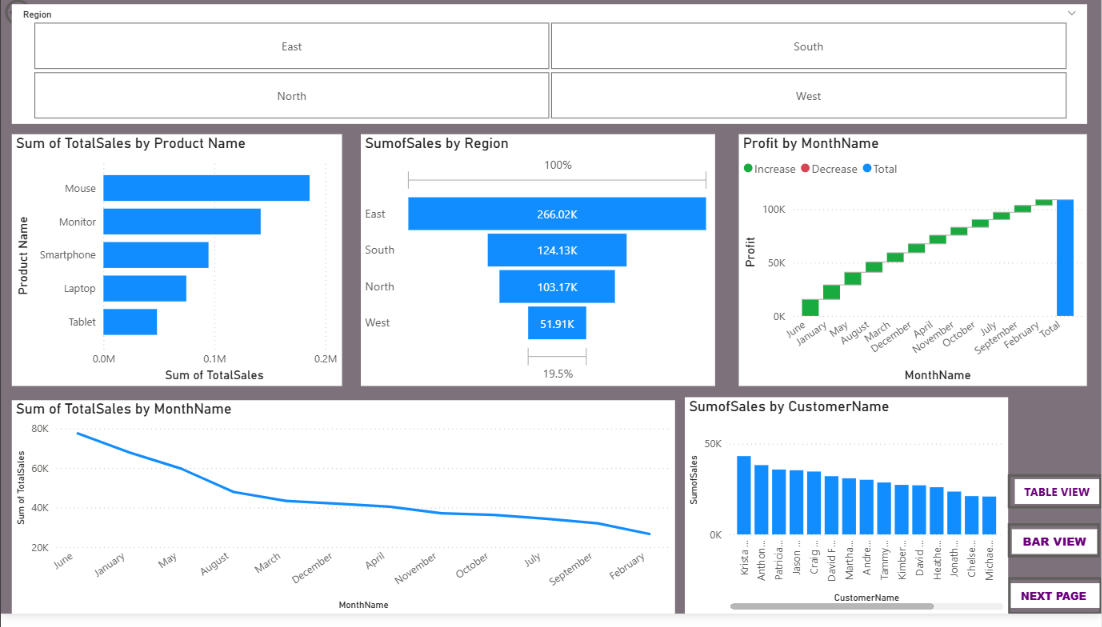

The dashboard page shown, as its layout file describes it:
{"tool":"powerbi","page":{"name":"Page 1","canvas":[1280,720],"ordinal":0},"visuals":[{"type":"actionButton","box":[0,0,100,40],"z":0},{"type":"barChart","fields":{"Category":["Fact_Sales.Product Name"],"Y":["Sum(Fact_Sales.TotalSales)"]},"box":[0,150.5,396.8,320.9],"z":1000},{"type":"lineChart","fields":{"Y":["Sum(Fact_Sales.TotalSales)"],"Category":["Dim_Date.MonthName"]},"box":[0,471.5,794.9,248.8],"z":2000},{"type":"funnel","fields":{"Category":["Dim_Customers.Region"],"Y":["Fact_Sales.SumofSales"]},"box":[396.8,150.5,451.6,317.2],"z":3000},{"type":"waterfallChart","fields":{"Category":["Dim_Date.MonthName"],"Y":["Fact_Sales.Profit"]},"box":[848.4,150.5,431.7,317.2],"z":4000},{"type":"slicer","fields":{"Values":["Dim_Customers.Region"]},"box":[0,0,1280,150.5],"z":5000},{"type":"actionButton","box":[1170.6,676.7,109.5,43.5],"z":6000},{"type":"textbox","box":[1174.3,684.2,103.2,28.6],"z":7000},{"type":"columnChart","fields":{"Category":["Dim_Customers.CustomerName"],"Y":["Fact_Sales.SumofSales"]},"box":[794.9,467.7,375.7,252.5],"z":8000},{"type":"actionButton","box":[1170.6,614.5,107,39.8],"z":10000},{"type":"textbox","box":[1175.5,620.7,99.5,28.6],"z":11000},{"type":"textbox","box":[1179.3,562.3,98.3,28.6],"z":12000},{"type":"actionButton","box":[1170.6,557.3,109.5,39.8],"z":13000}]}

Visuals, with their boxes in screenshot pixels (x1, y1, x2, y2), scaled from the page's 1280x720 canvas onto the 1102x627 screenshot:
actionButton: detection(0, 0, 86, 35)
barChart - Fact_Sales.Product Name x Sum(Fact_Sales.TotalSales): detection(0, 131, 342, 411)
lineChart - Sum(Fact_Sales.TotalSales) x Dim_Date.MonthName: detection(0, 411, 684, 626)
funnel - Dim_Customers.Region x Fact_Sales.SumofSales: detection(342, 131, 730, 407)
waterfallChart - Dim_Date.MonthName x Fact_Sales.Profit: detection(730, 131, 1101, 407)
slicer - Dim_Customers.Region: detection(0, 0, 1101, 131)
actionButton: detection(1008, 589, 1101, 626)
textbox: detection(1011, 596, 1100, 621)
columnChart - Dim_Customers.CustomerName x Fact_Sales.SumofSales: detection(684, 407, 1008, 626)
actionButton: detection(1008, 535, 1100, 570)
textbox: detection(1012, 541, 1098, 565)
textbox: detection(1015, 490, 1100, 515)
actionButton: detection(1008, 485, 1101, 520)
